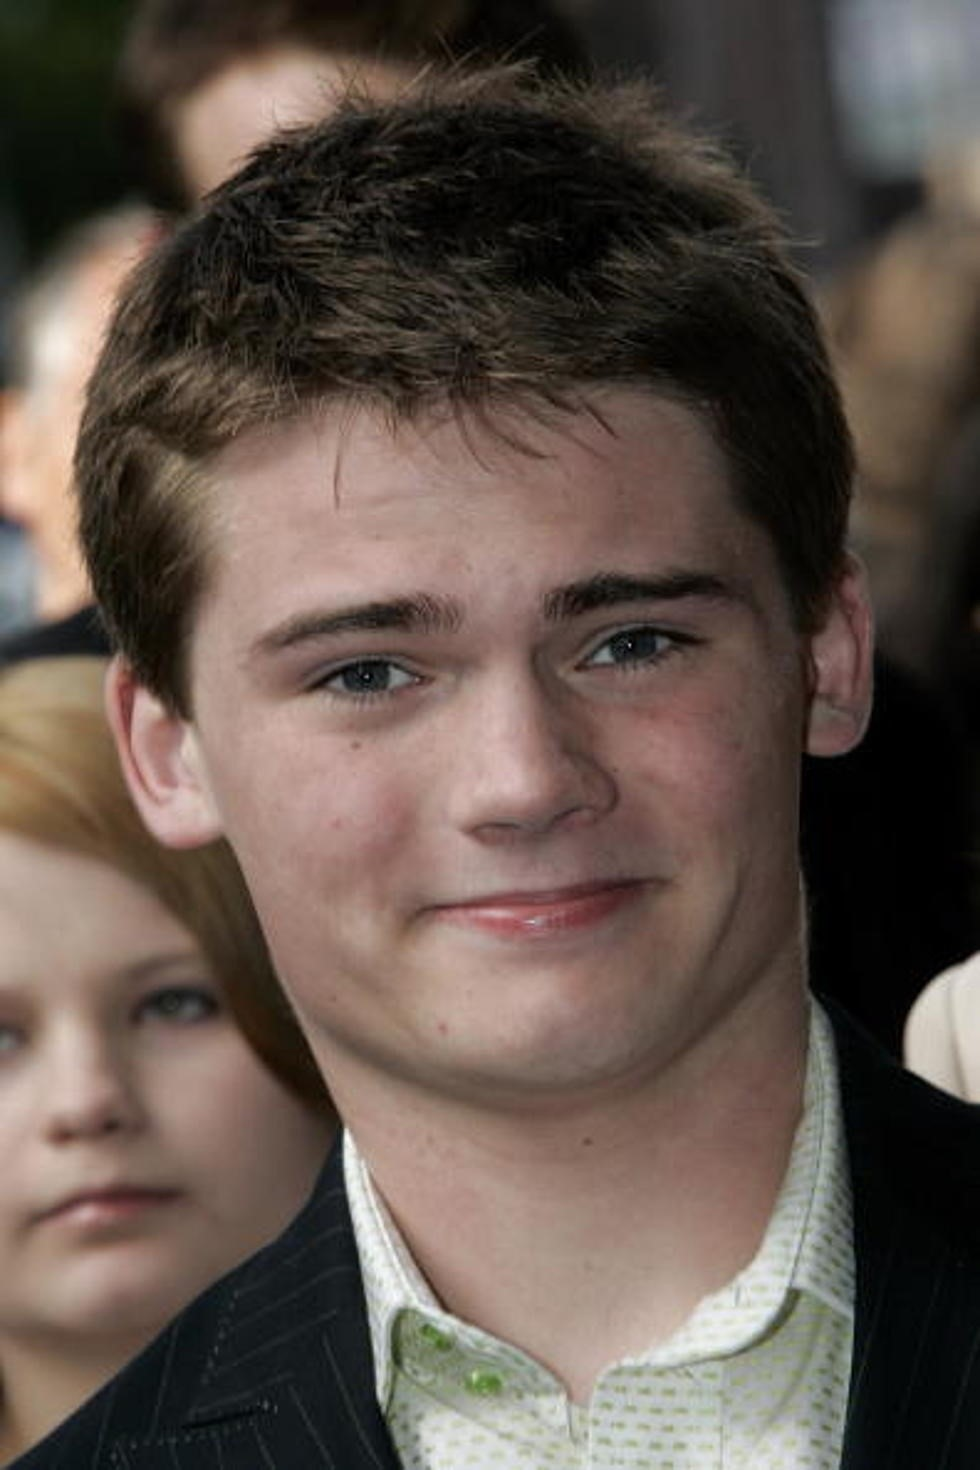face_no_mask: (80, 243, 882, 1158), (3, 650, 338, 1374)
